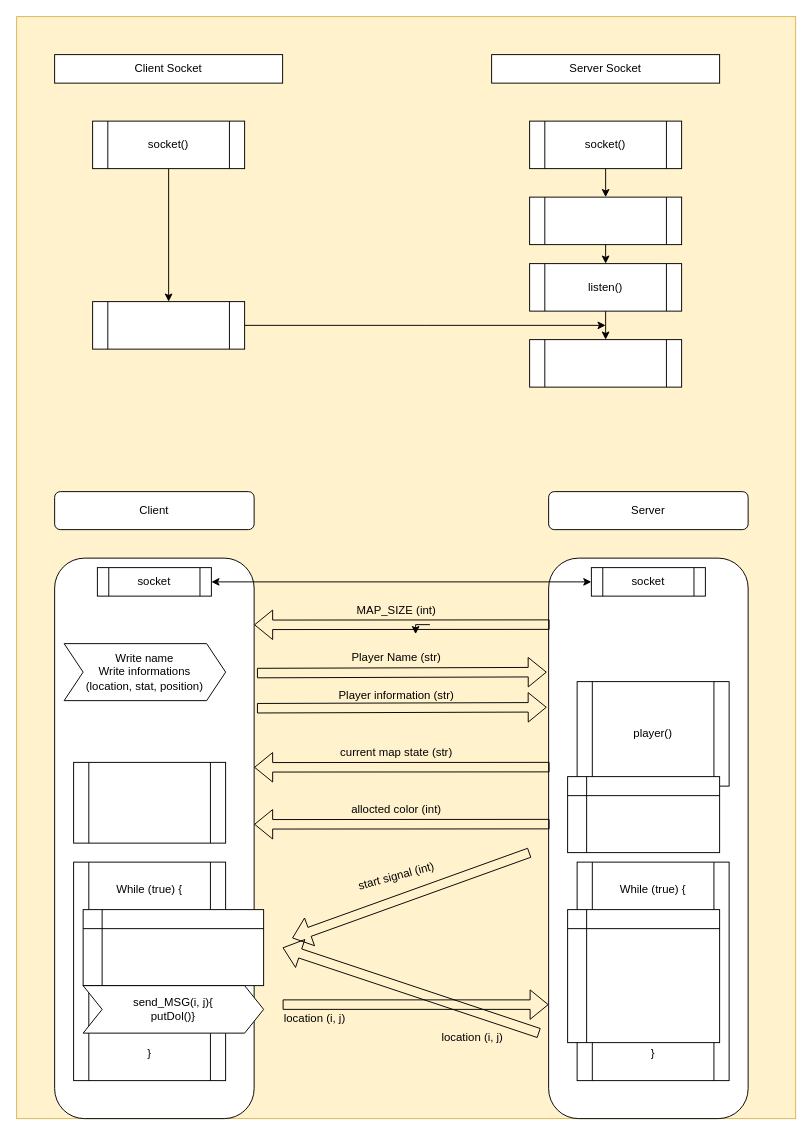
The diagram is 812 pixels wide and 1135 high, and some of its shapes have lost their labels. Here are the shapes that lost their labels. From the top down, the box of each, then its label:
(529, 196, 682, 245): bind()
(92, 301, 245, 349): connect()
(529, 339, 682, 387): accept()
(73, 761, 226, 843): enter()
(567, 776, 720, 853): if 2 players in the loc, start a game
(82, 909, 264, 986): wait_turn(){ putDol()}
(567, 909, 720, 1043): putDol(i, j)
